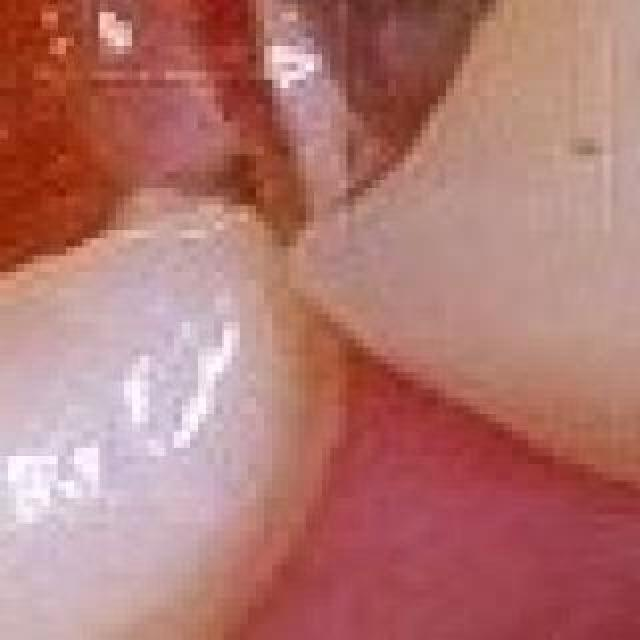cavities: (168, 0, 550, 200), (0, 0, 250, 234)
